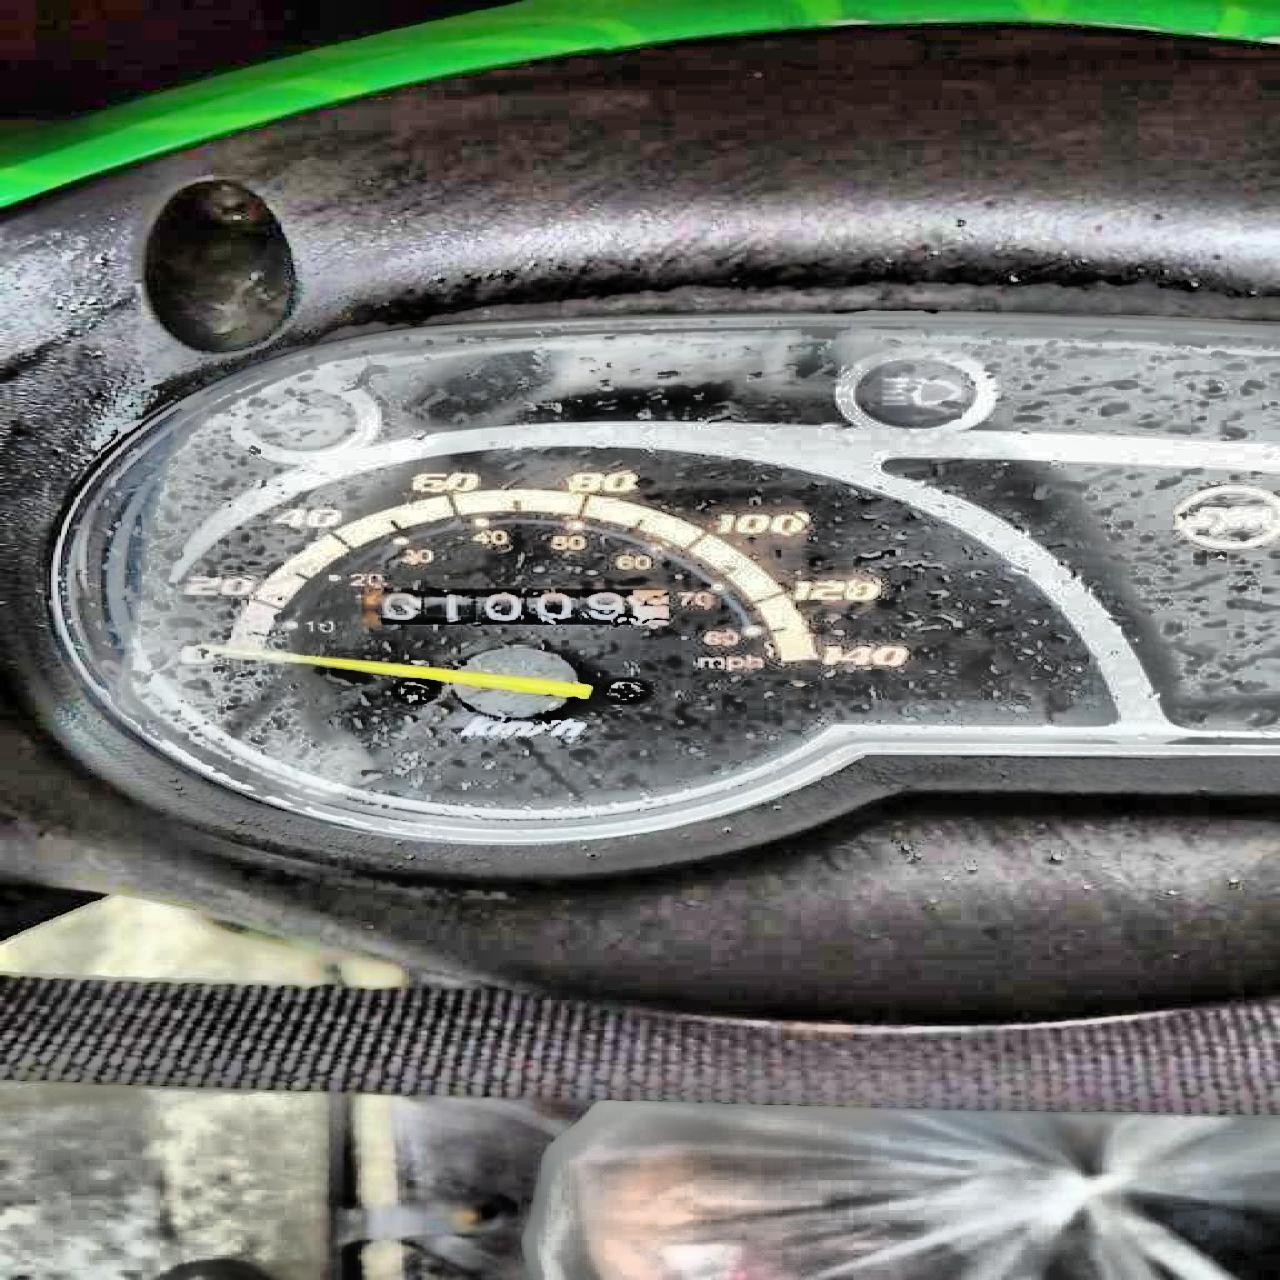0: (478, 588, 520, 624), (373, 590, 417, 622), (529, 588, 571, 622)
1: (436, 588, 467, 625)
2: (635, 586, 674, 610)
9: (583, 590, 625, 621)
odometer: (362, 585, 678, 629)
